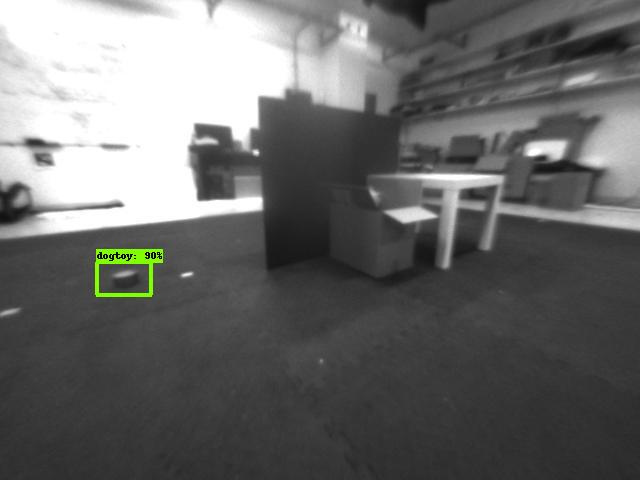dogtoy: (99, 264, 154, 295)
